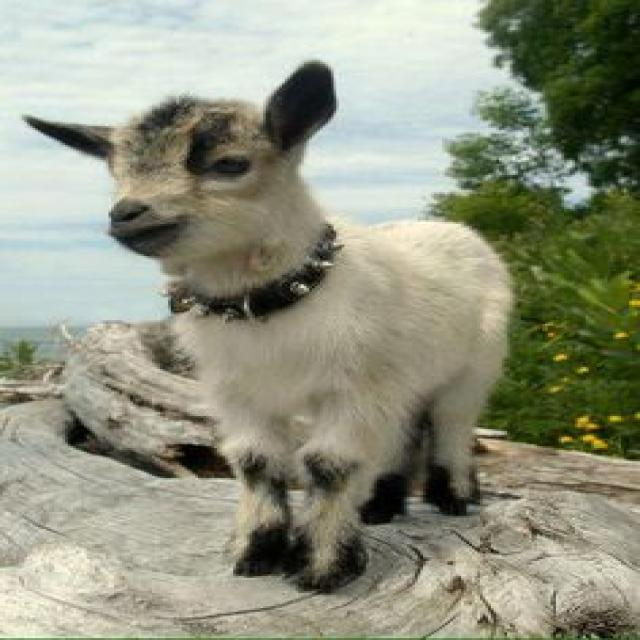Herbivorous: (30, 62, 515, 595)
